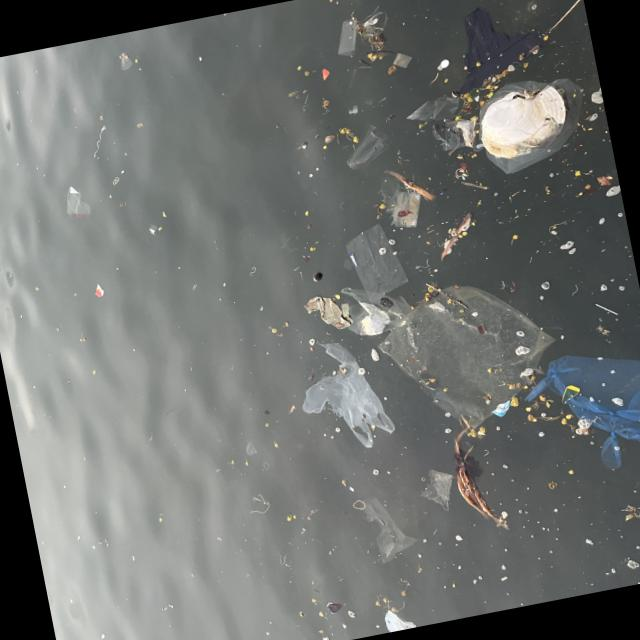foam: (478, 83, 572, 149)
plastic bag: (372, 279, 550, 431), (533, 345, 640, 476), (298, 341, 397, 449)
